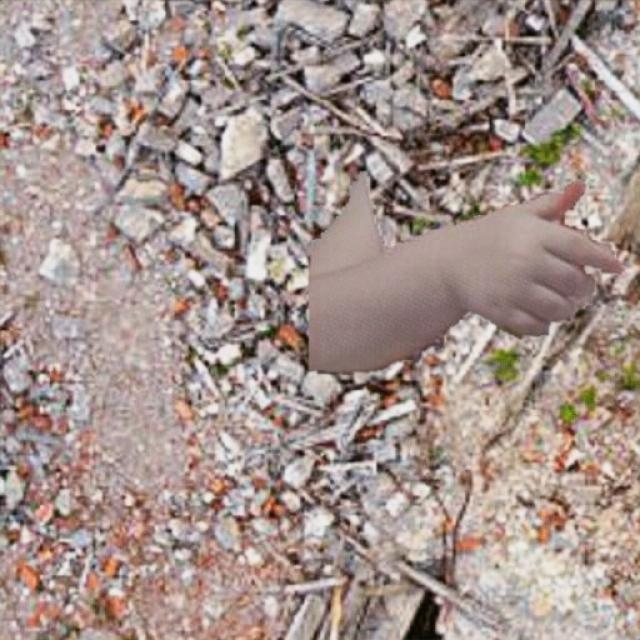Person in Rubble: (309, 171, 620, 374)
